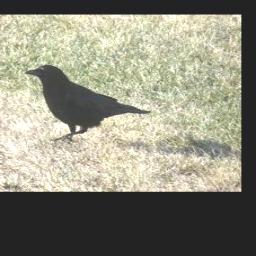Crow: (20, 62, 148, 140)
